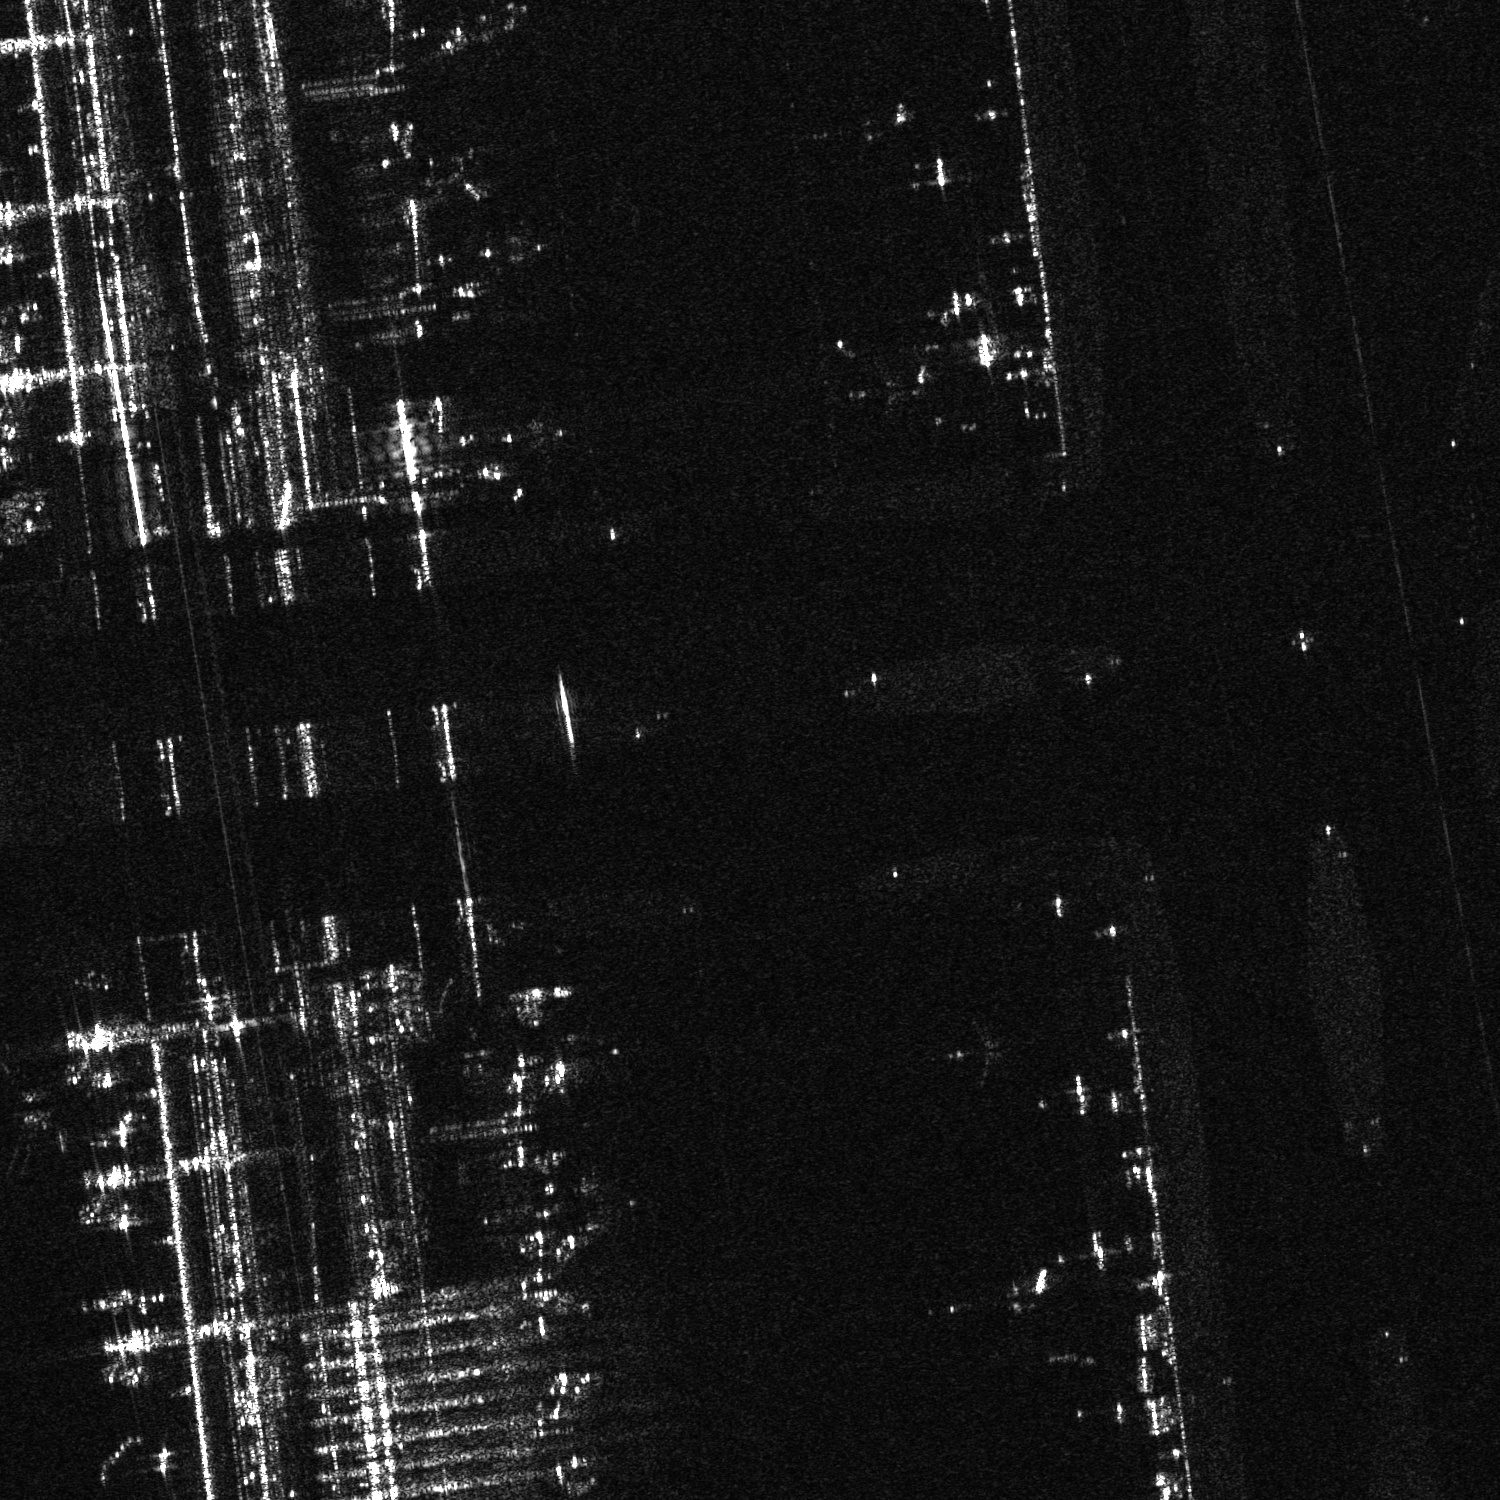Boeing737: (938, 1016, 1012, 1092)
